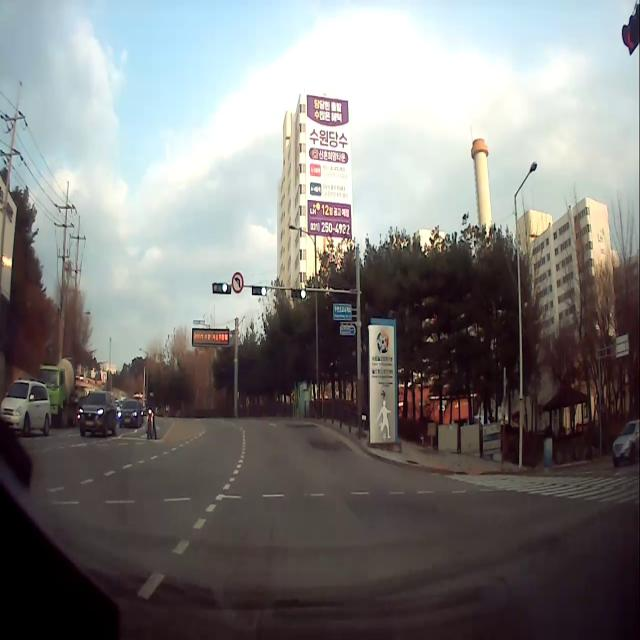Green Light: (221, 281, 228, 292), (260, 285, 267, 296), (300, 288, 306, 300)
